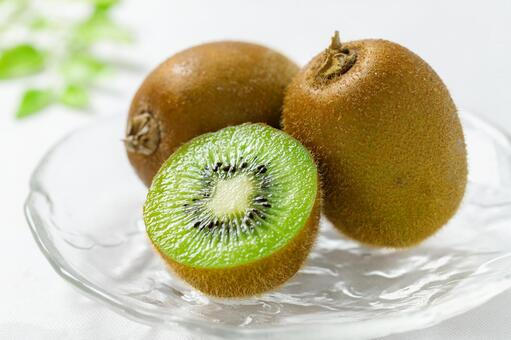kiwi: (277, 50, 474, 257), (180, 124, 308, 305)
